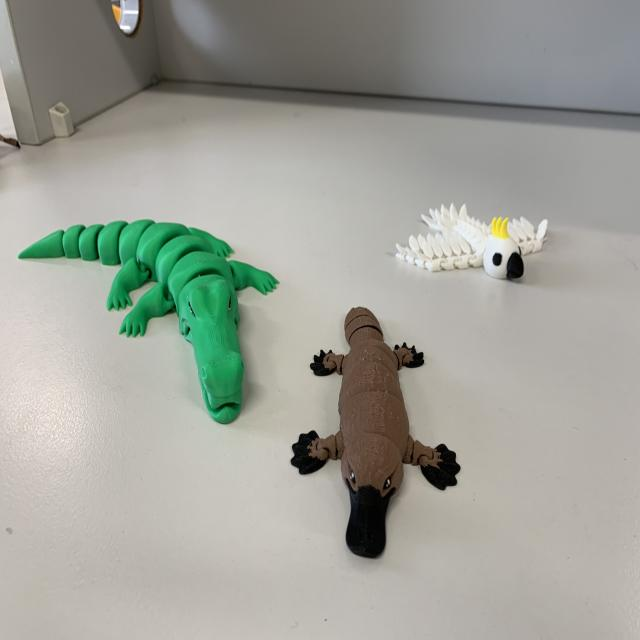cockatoo: (388, 188, 553, 296)
crocodile: (13, 211, 284, 438)
platypus: (291, 294, 468, 562)
